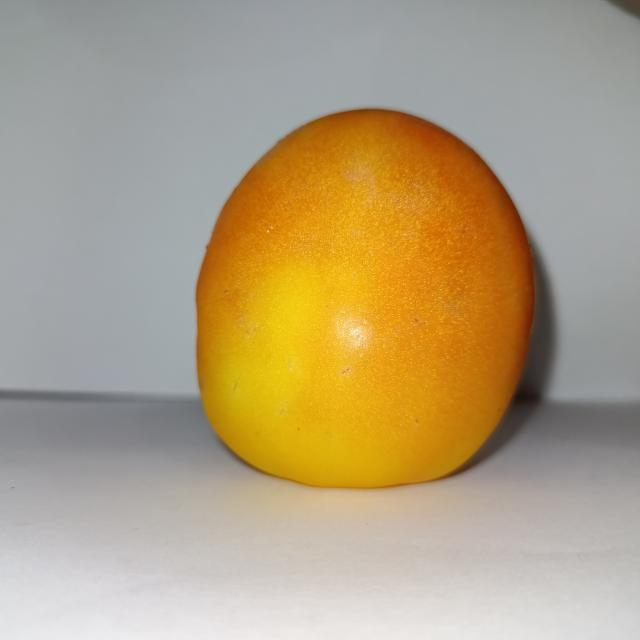Red: (193, 106, 537, 489)
